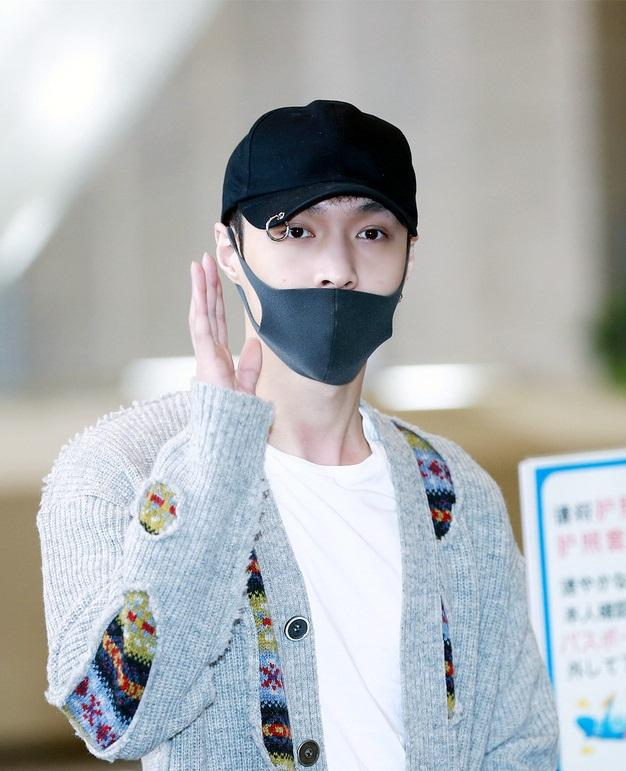face_mask: (247, 198, 404, 383)
